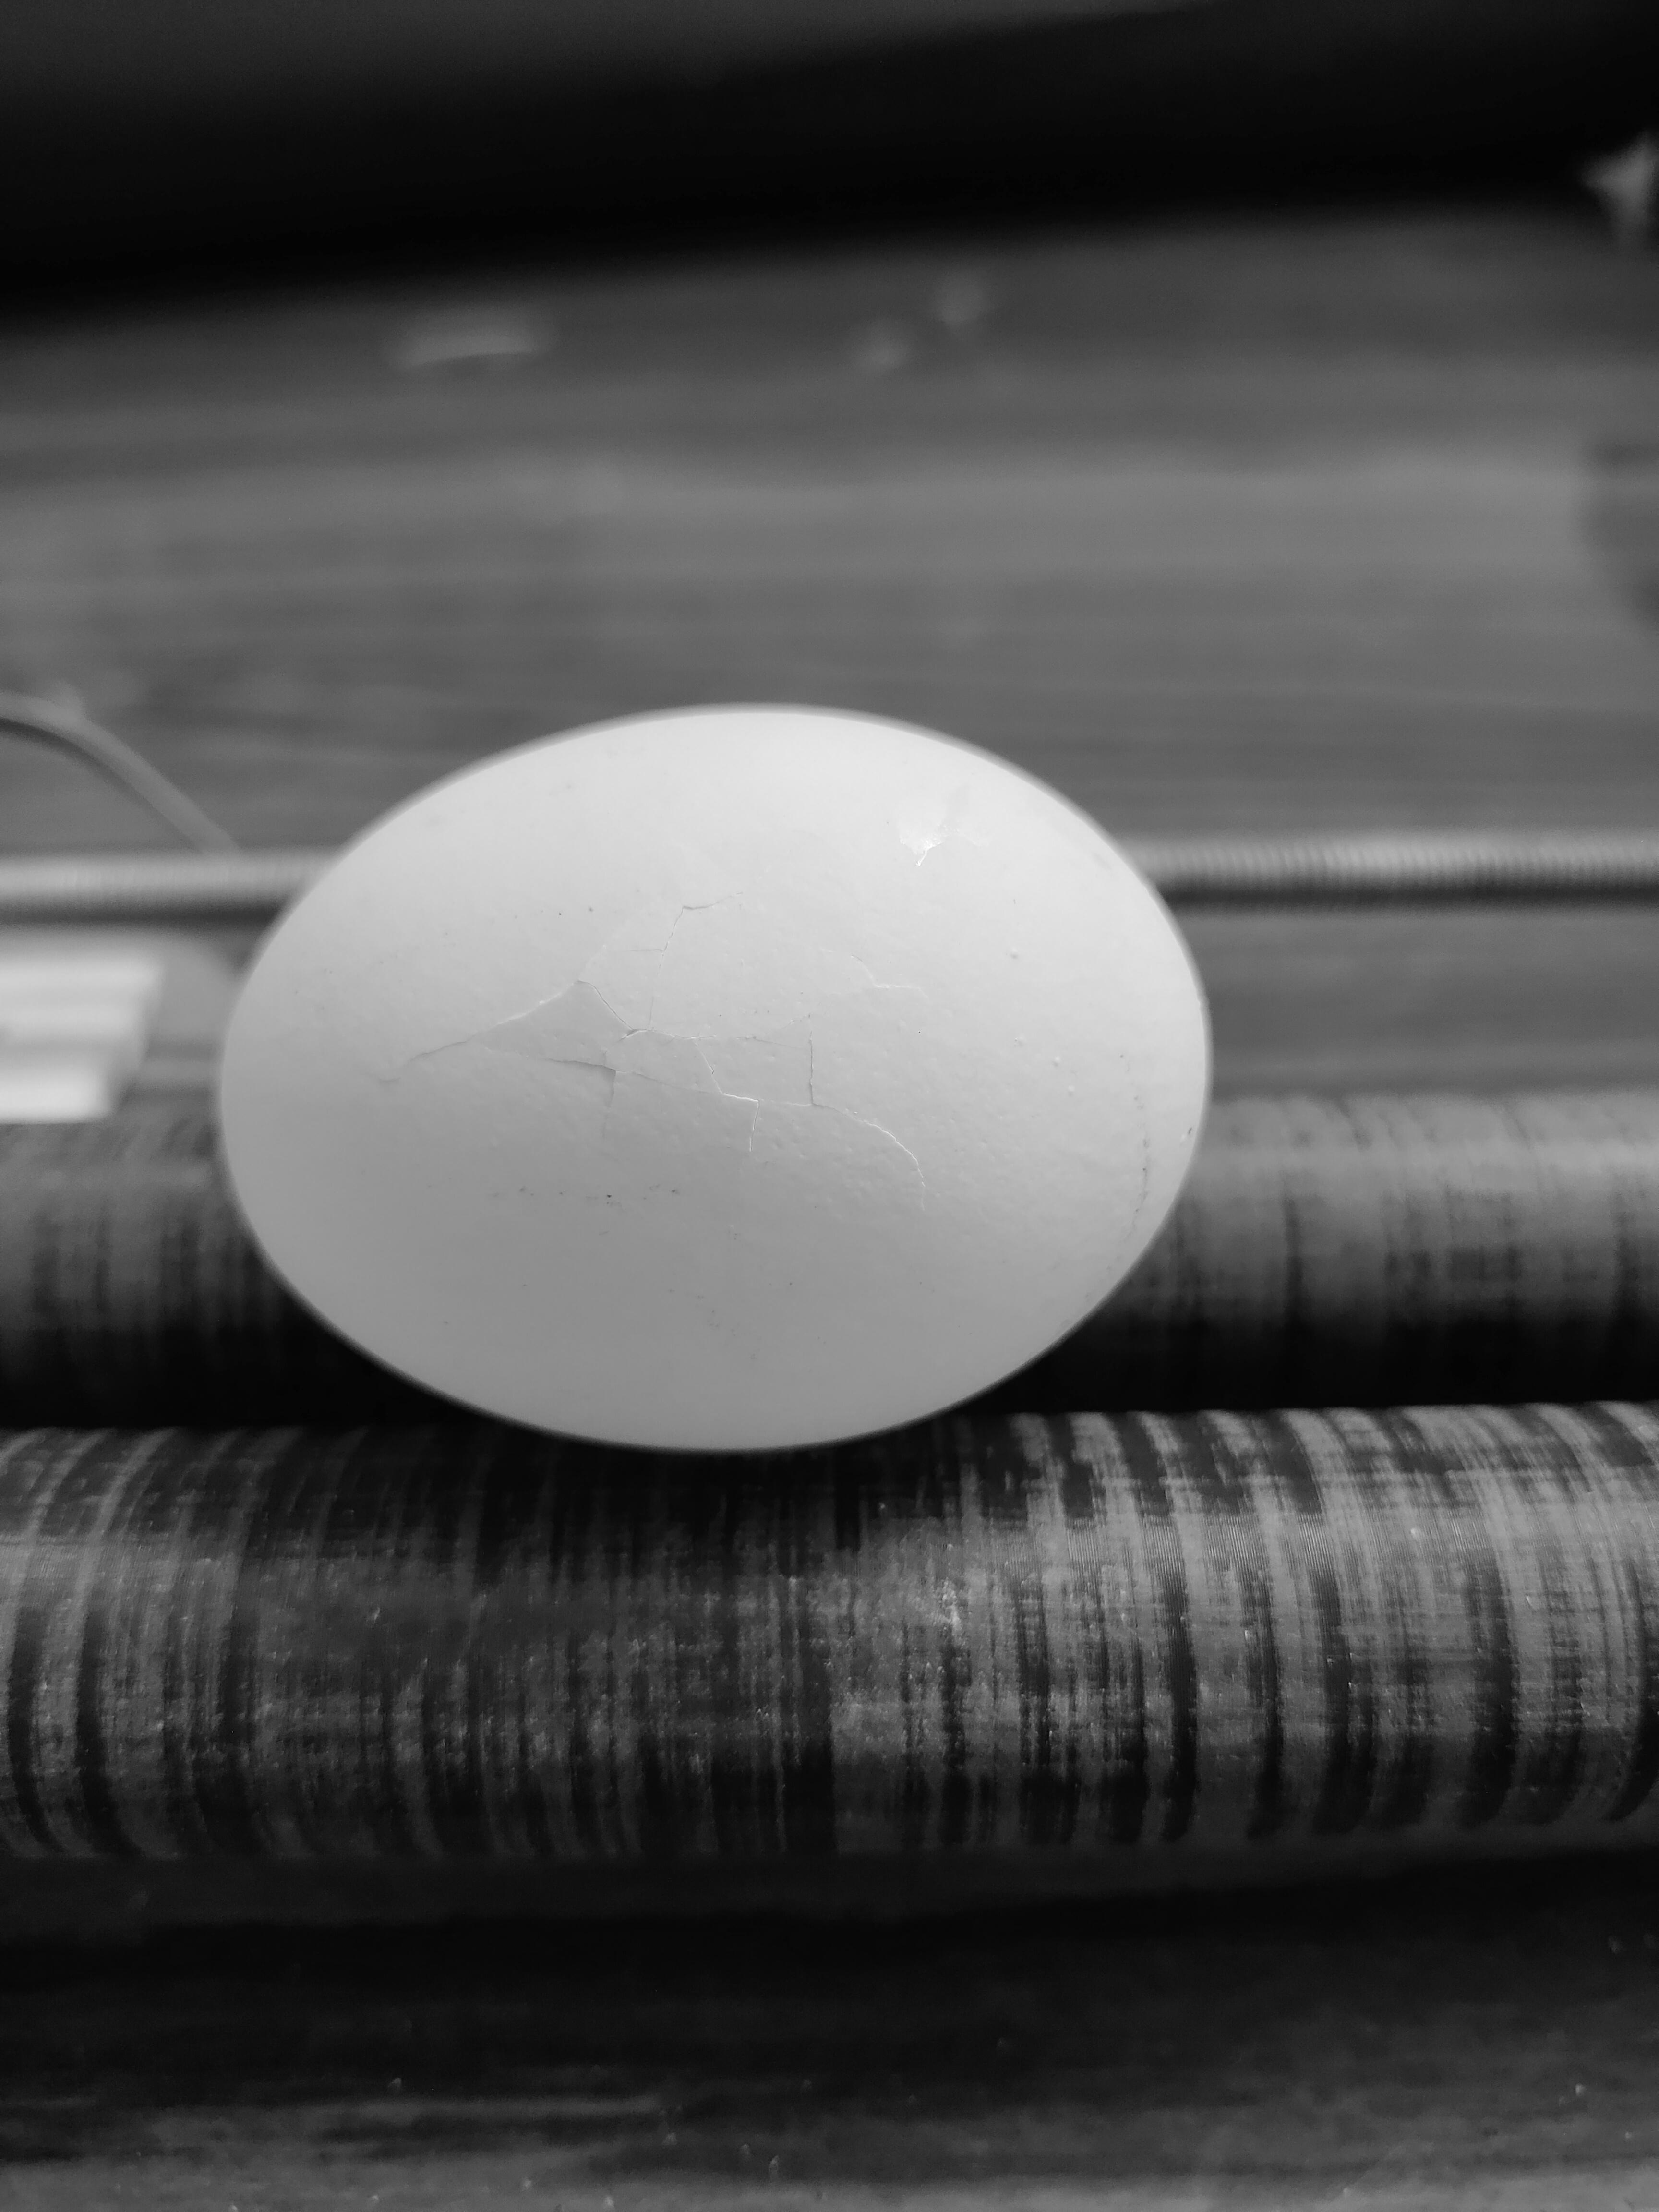telur: (178, 678, 1244, 1475)
